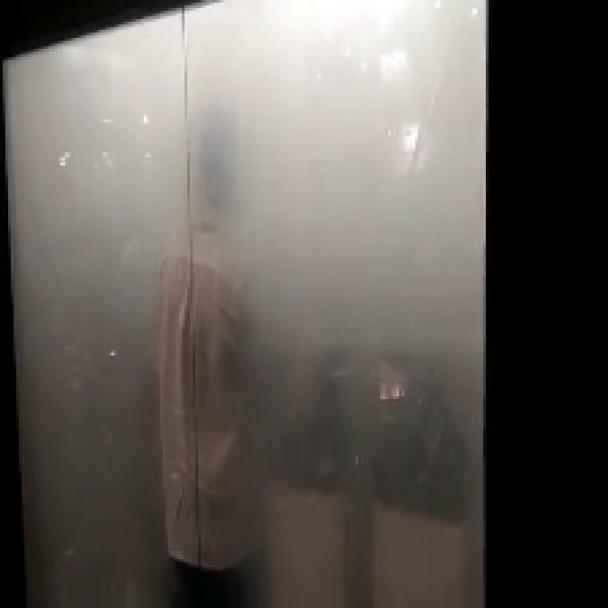smoke: (8, 0, 489, 606)
